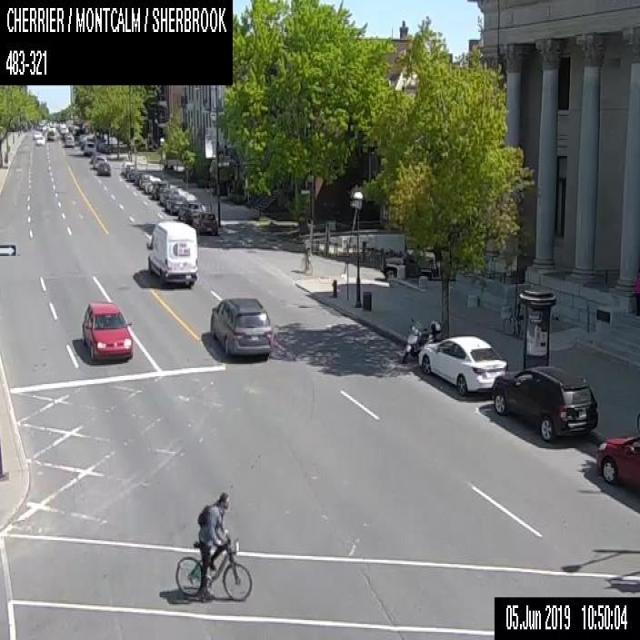cyclist: (174, 491, 252, 600)
pedestrian: (300, 244, 312, 273)
vehicle: (492, 366, 597, 442), (416, 336, 506, 394), (210, 295, 272, 357), (145, 220, 198, 288), (81, 301, 133, 361), (595, 432, 639, 489), (378, 247, 436, 281), (401, 317, 441, 362), (191, 211, 217, 234), (163, 189, 186, 214), (176, 200, 202, 222), (150, 180, 166, 198), (159, 187, 175, 204), (83, 138, 94, 156), (93, 155, 106, 169), (138, 173, 150, 188), (98, 141, 110, 153), (98, 162, 110, 174), (126, 166, 136, 180), (142, 178, 152, 192), (134, 171, 144, 183), (64, 134, 74, 146), (46, 127, 55, 140), (35, 135, 45, 145), (78, 133, 86, 143), (33, 130, 41, 138)
